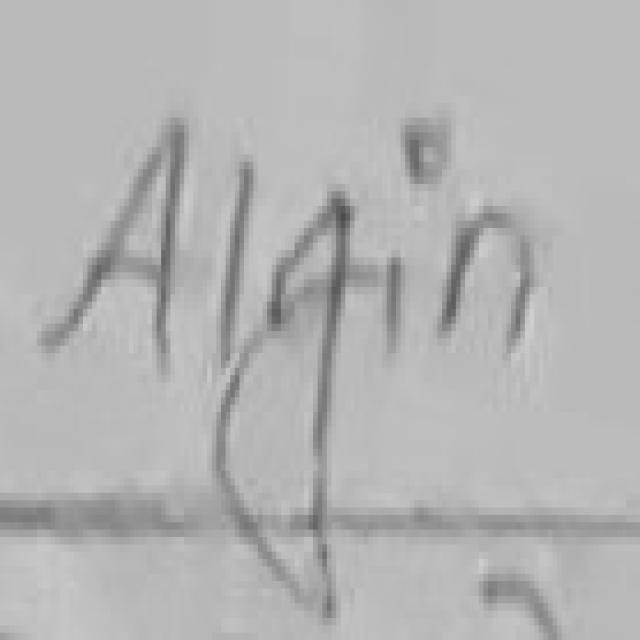A: (41, 125, 189, 371)
g: (216, 191, 355, 622)
i: (405, 125, 447, 184), (389, 257, 405, 349)
l: (221, 162, 253, 368)
n: (442, 203, 537, 357)
